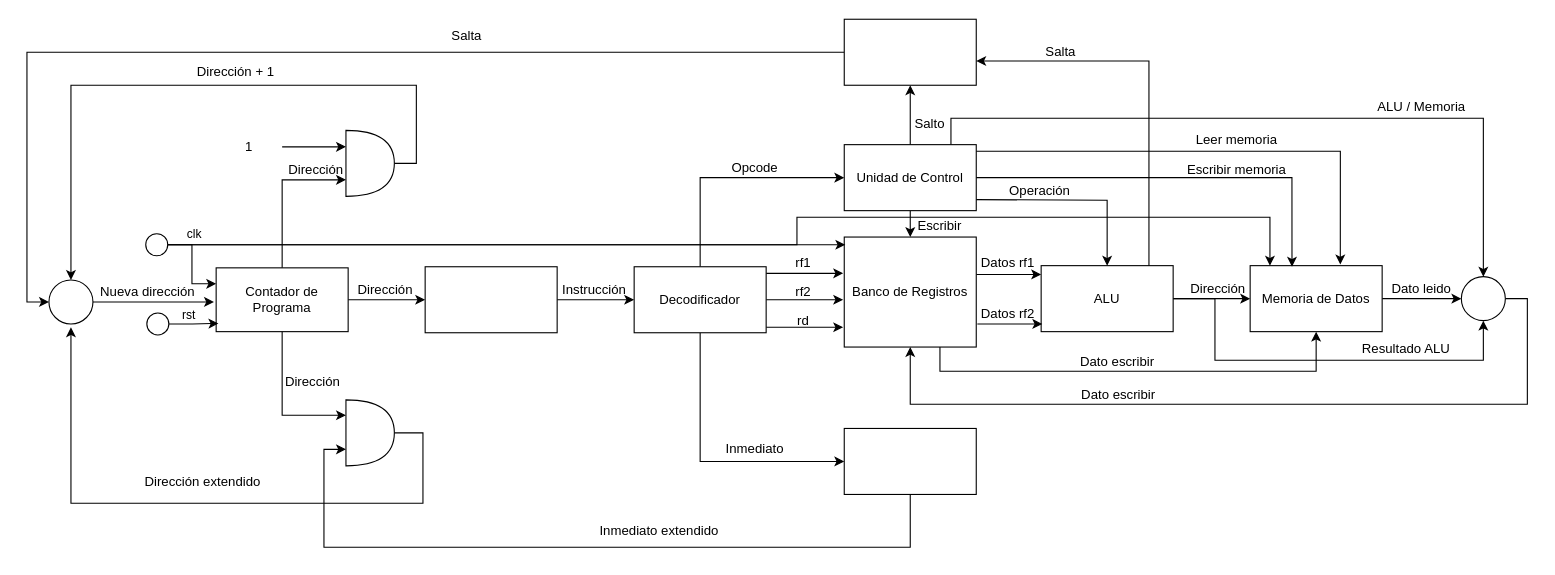
Image size: 1555x575. Some labels were removed from this diagram. The shapes that lost their labels are listed below. From the top down, each one's centre as x and y in pixels, then its label:
the point at 909,51: Control de Salto
the point at 490,299: Memoria de Instrucciones
the point at 909,460: Extensor Inmediato
